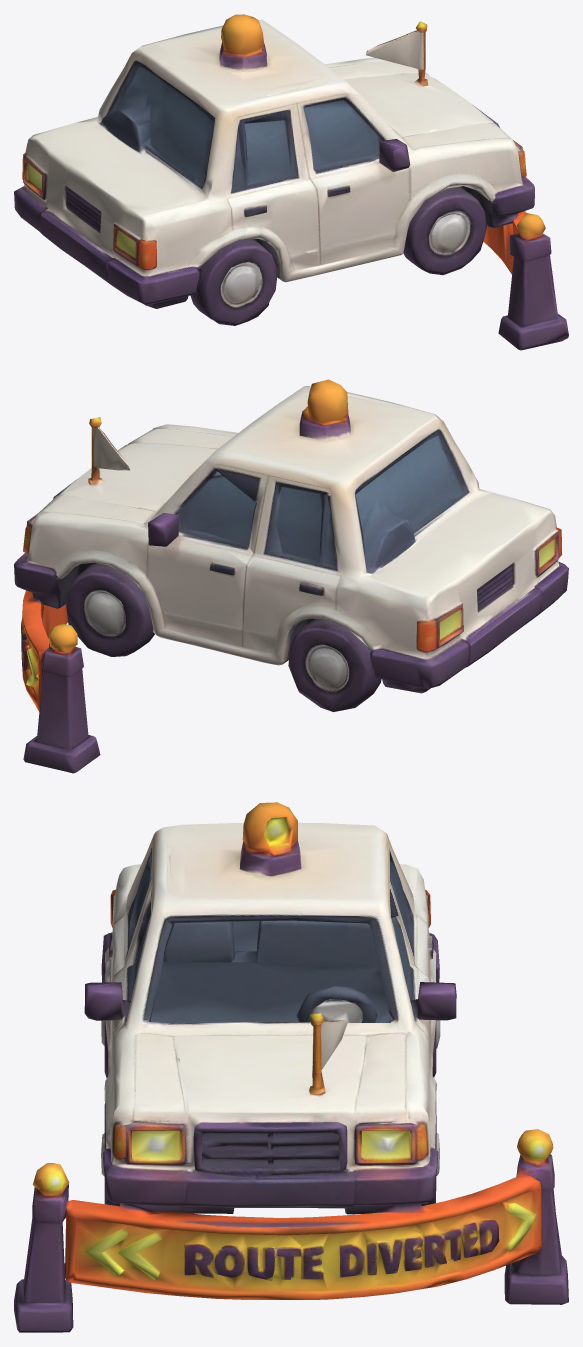
File: obstacle-vip-convoy.glb
3 renders of one model, top to bottom at view 1: azimuth 30°, elevation 25°; view 2: azimuth 150°, elevation 25°; view 3: azimuth 270°, elevation 25°, orthographic. The views are drawn at different scales.
Visible parts, largest first — view 1: tripo_node_0971e281-7ed1-4b96-a749-b6765566d31a; view 2: tripo_node_0971e281-7ed1-4b96-a749-b6765566d31a; view 3: tripo_node_0971e281-7ed1-4b96-a749-b6765566d31a.
Part boxes in pixels (box(x1,y1,x2,y2)): tripo_node_0971e281-7ed1-4b96-a749-b6765566d31a: box(14, 14, 568, 350); tripo_node_0971e281-7ed1-4b96-a749-b6765566d31a: box(14, 379, 568, 773); tripo_node_0971e281-7ed1-4b96-a749-b6765566d31a: box(14, 802, 568, 1332).
Size of the model in its own units: 1 by 0.7192 by 0.9105.
1 material, 1 textured.
